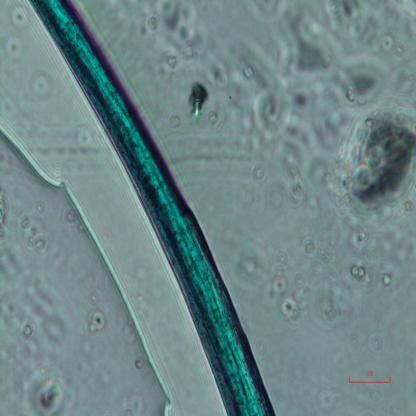Air bubble: (0, 117, 177, 416)
Background material: (335, 97, 416, 215), (293, 27, 381, 97), (284, 92, 331, 220), (0, 254, 57, 343), (301, 234, 352, 328), (210, 46, 276, 118), (142, 0, 200, 67), (14, 190, 45, 256), (230, 244, 272, 288), (254, 88, 290, 135), (270, 272, 299, 321), (31, 376, 67, 414), (344, 213, 378, 253), (185, 77, 210, 124), (344, 254, 370, 291), (310, 380, 338, 410), (0, 24, 22, 58), (10, 3, 32, 36), (88, 307, 108, 336), (123, 389, 144, 414), (31, 74, 48, 101), (366, 334, 384, 350), (381, 274, 394, 288), (133, 357, 146, 370)
Microfibre: (32, 0, 278, 415)
